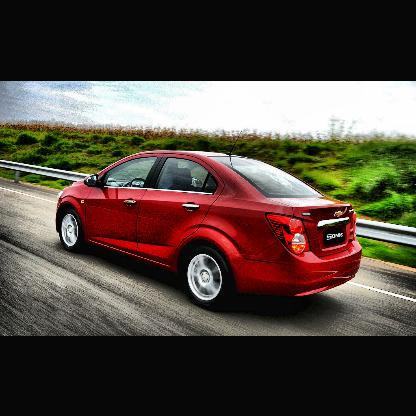Chevrolet Sonic Sedan 2012: (56, 128, 365, 316)
